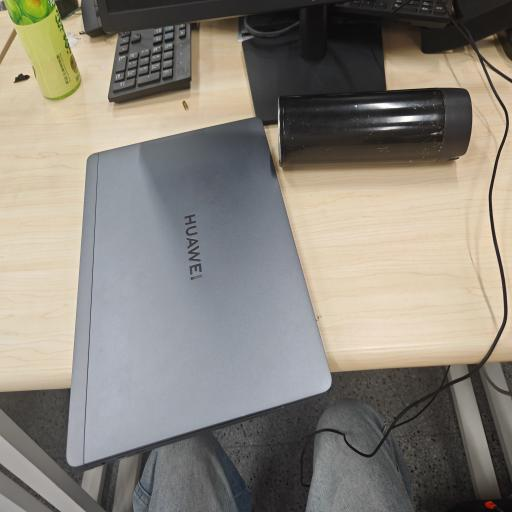laptop: (67, 118, 331, 466)
